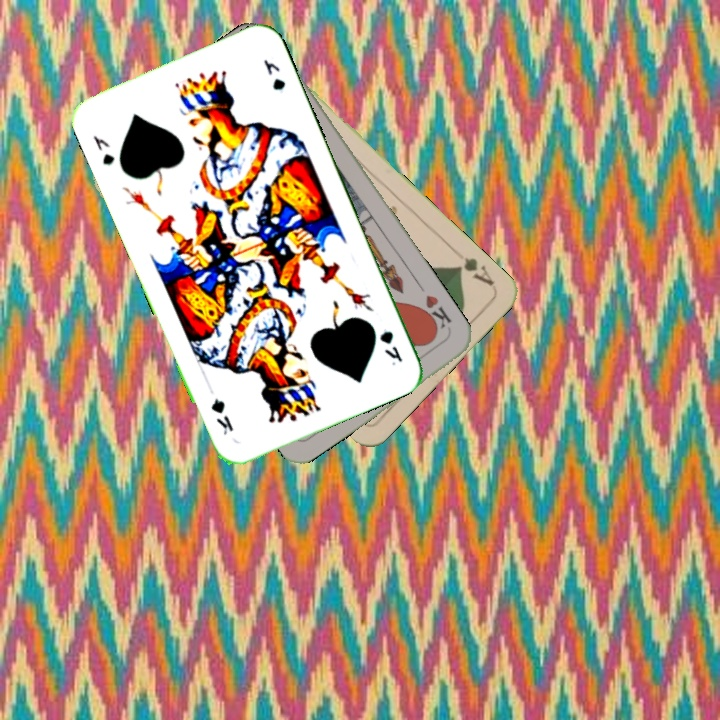GA: (451, 253, 497, 289)
GK: (375, 324, 406, 369), (88, 131, 117, 168)
HK: (416, 291, 455, 336)
